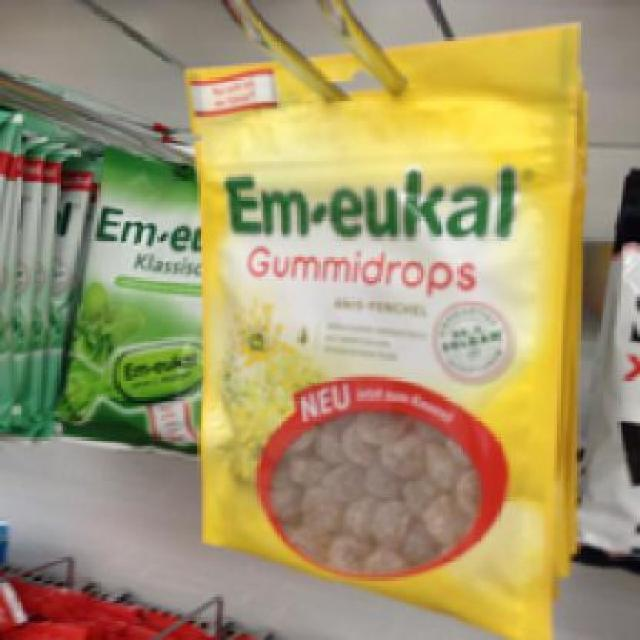Candy: (186, 63, 560, 620)
